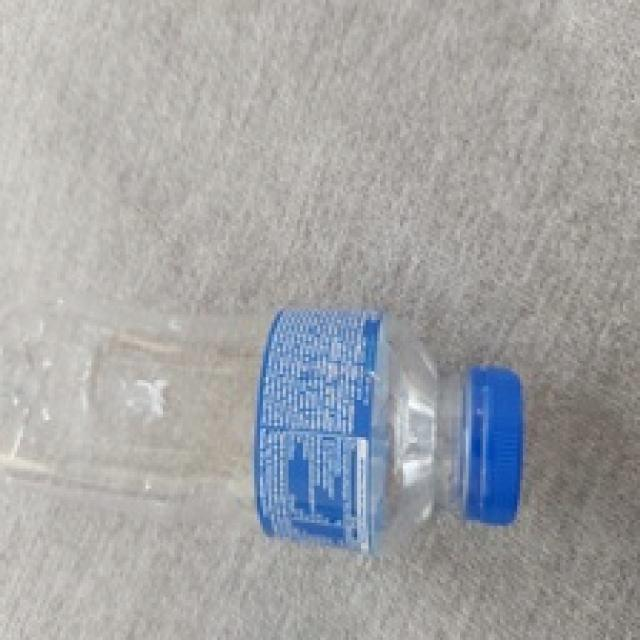bottle: (0, 301, 524, 560)
